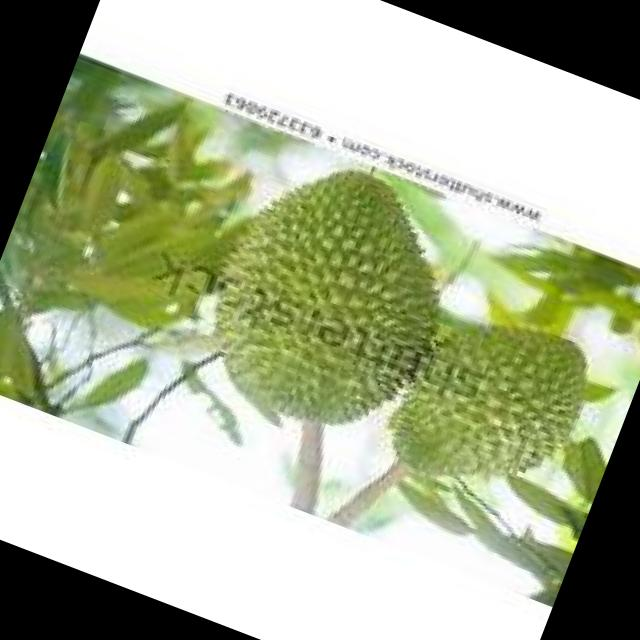fruit: (150, 114, 510, 489), (349, 260, 630, 544)
